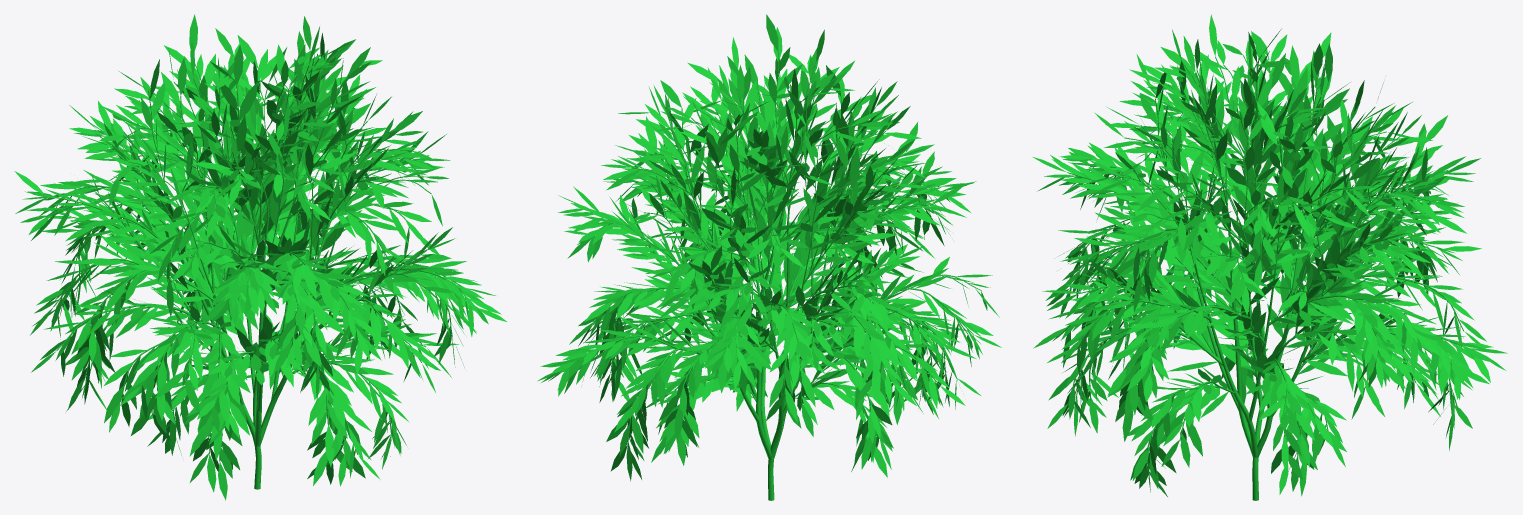
File: Bush.fbx
3 views of the same model, side by side, from view 1: azimuth 30°, elevation 25°; view 2: azimuth 150°, elevation 25°; view 3: azimuth 270°, elevation 25° (orthographic). The views are drawn at different scales.
Visible parts, largest first — view 1: leaves.002, tree.002; view 2: leaves.002, tree.002; view 3: leaves.002, tree.002.
Part boxes in pixels (bbox=[...]): leaves.002: bbox=[14, 14, 506, 500]; tree.002: bbox=[49, 50, 476, 489]; leaves.002: bbox=[537, 14, 1001, 481]; tree.002: bbox=[574, 52, 981, 500]; leaves.002: bbox=[1033, 14, 1507, 496]; tree.002: bbox=[1067, 55, 1476, 500].
Size of the model in its own units: 144 by 164 by 148.
